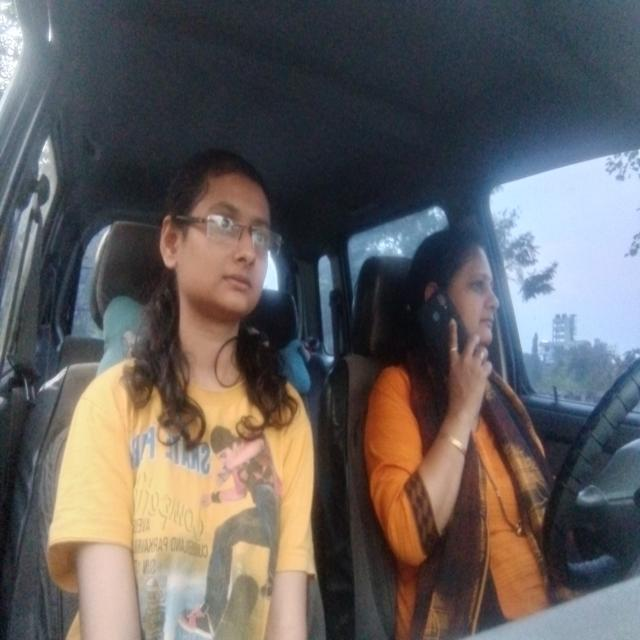mobile: (413, 296, 471, 380)
person: (151, 135, 279, 315), (411, 212, 501, 358)
